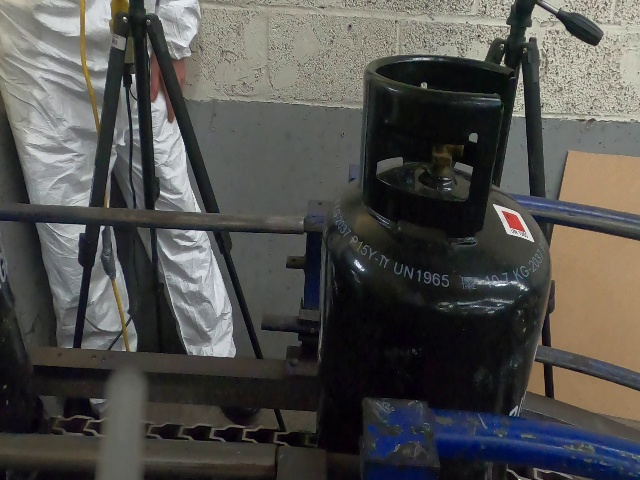gas_bottle: (5, 3, 640, 480)
